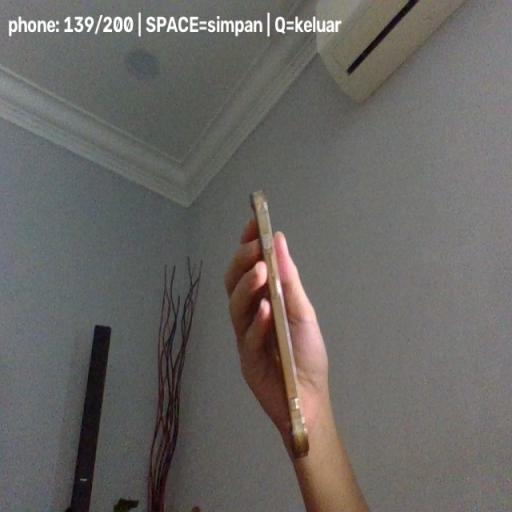Phone: (250, 188, 310, 458)
